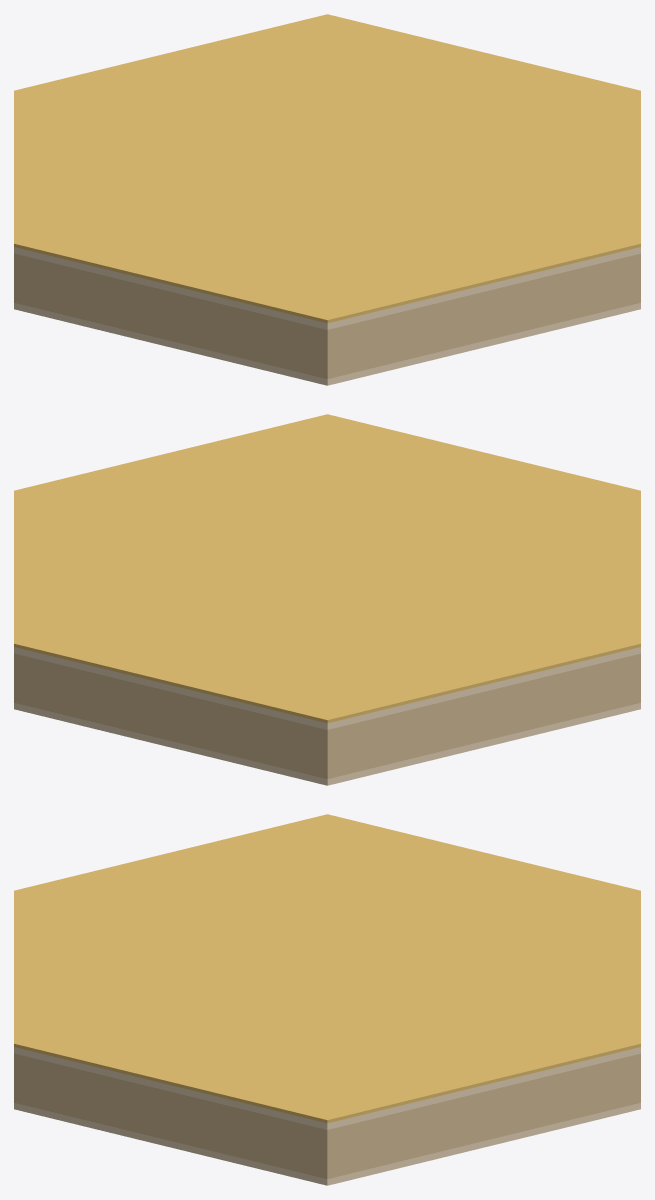
Rendered from terrain.glb.
3 renders of one model, top to bottom at view 1: azimuth 30°, elevation 25°; view 2: azimuth 150°, elevation 25°; view 3: azimuth 270°, elevation 25°, orthographic.
Visible parts, largest first — view 1: Tile_Sand_Geometry; view 2: Tile_Sand_Geometry; view 3: Tile_Sand_Geometry.
Boxes of the visible parts, box(x1,y1,x2,y2) form: Tile_Sand_Geometry: box(14, 14, 640, 385); Tile_Sand_Geometry: box(14, 414, 640, 785); Tile_Sand_Geometry: box(14, 814, 640, 1185).
Size of the model in its own units: 2 by 0.2 by 1.73.
